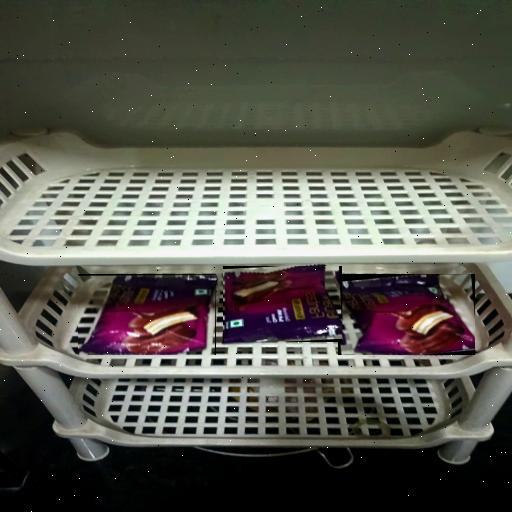Choco Pie: (78, 274, 216, 355), (338, 274, 475, 355), (223, 266, 342, 342)
